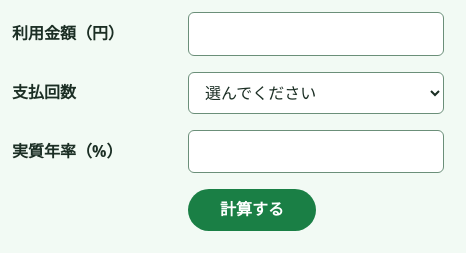
カンマ付きの利用金額は、カンマを取り除いて送る（利用者が入れたカンマも。FR-015・FR-017）
Type "1,00,000" into the field labelled "利用金額（円）" at (316, 34), box [188,12,444,56]
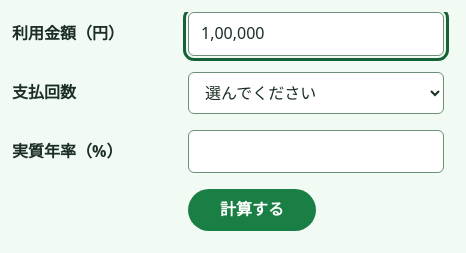
Type "15" into the field labelled "実質年率（%）" at (316, 151), box [188,130,444,173]
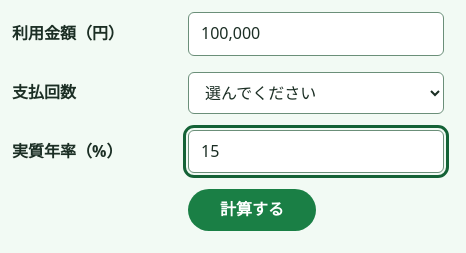
Click the button "計算する" at (252, 210), box [188,189,316,231]
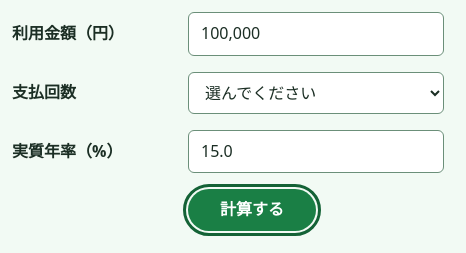
Now the field labelled "利用金額（円）" holds "100,000", box [188,12,444,56]
Now the field labelled "実質年率（%）" holds "15.0", box [188,130,444,173]
